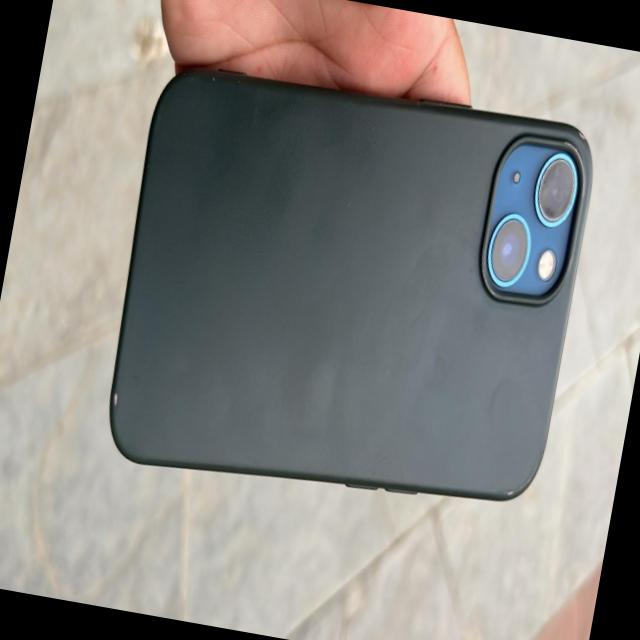Others: (89, 35, 606, 545)
